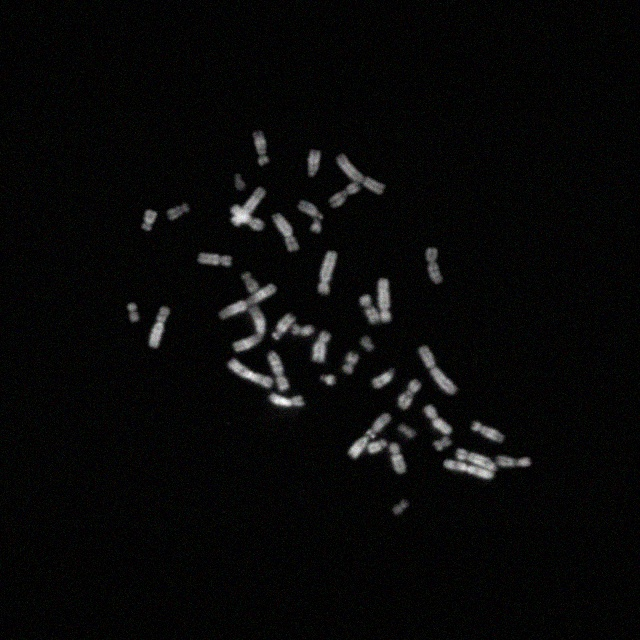chromosome: (348, 412, 392, 460), (218, 284, 276, 318), (336, 153, 384, 193), (419, 346, 457, 396), (232, 304, 266, 352), (230, 187, 266, 227), (227, 358, 273, 388), (442, 459, 493, 479), (272, 213, 298, 251), (456, 448, 496, 472), (318, 250, 338, 296), (147, 307, 169, 348), (230, 204, 264, 230), (268, 351, 290, 391), (423, 404, 452, 434), (329, 184, 361, 208), (471, 420, 505, 442), (398, 380, 422, 410), (272, 314, 296, 341), (378, 278, 392, 322), (253, 130, 269, 166), (426, 248, 442, 284), (313, 332, 332, 362), (359, 295, 378, 323), (196, 252, 232, 266), (390, 443, 406, 473), (371, 368, 395, 388), (298, 200, 324, 218), (496, 455, 532, 467), (268, 394, 304, 406), (168, 202, 190, 220), (306, 149, 320, 177), (342, 351, 358, 373), (368, 438, 388, 454), (242, 272, 258, 292), (398, 422, 416, 438), (142, 210, 156, 230), (292, 324, 314, 336), (434, 436, 452, 450), (394, 500, 408, 516), (320, 374, 336, 386), (128, 304, 138, 322), (361, 336, 373, 350), (235, 174, 245, 190), (311, 219, 321, 233)
